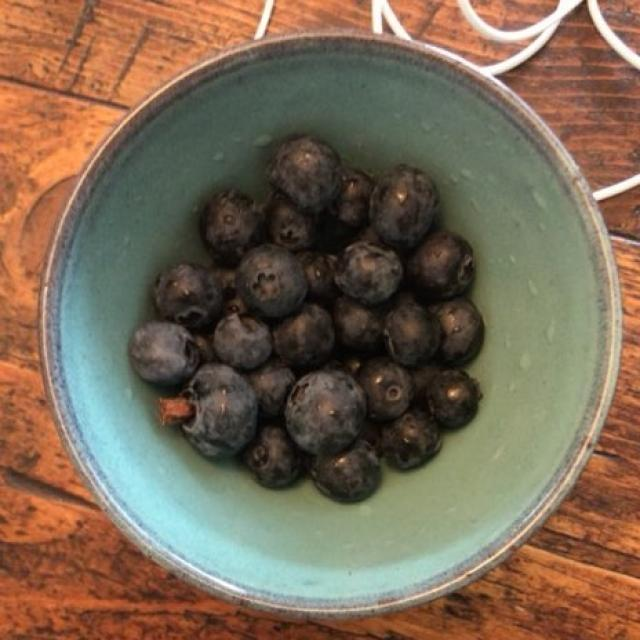blueberries: (133, 134, 477, 497)
